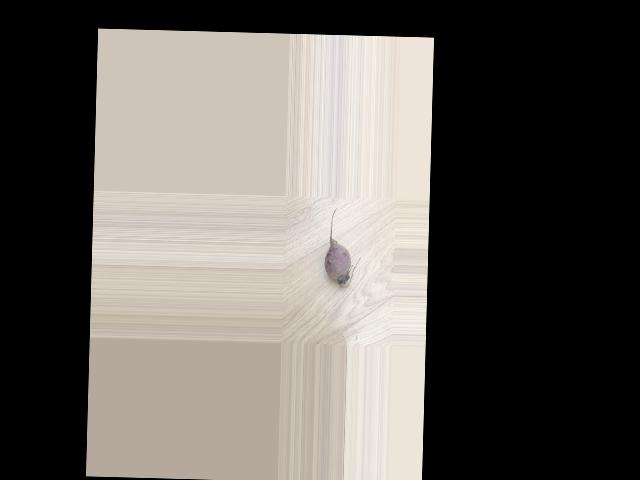beet: (323, 207, 361, 287)
